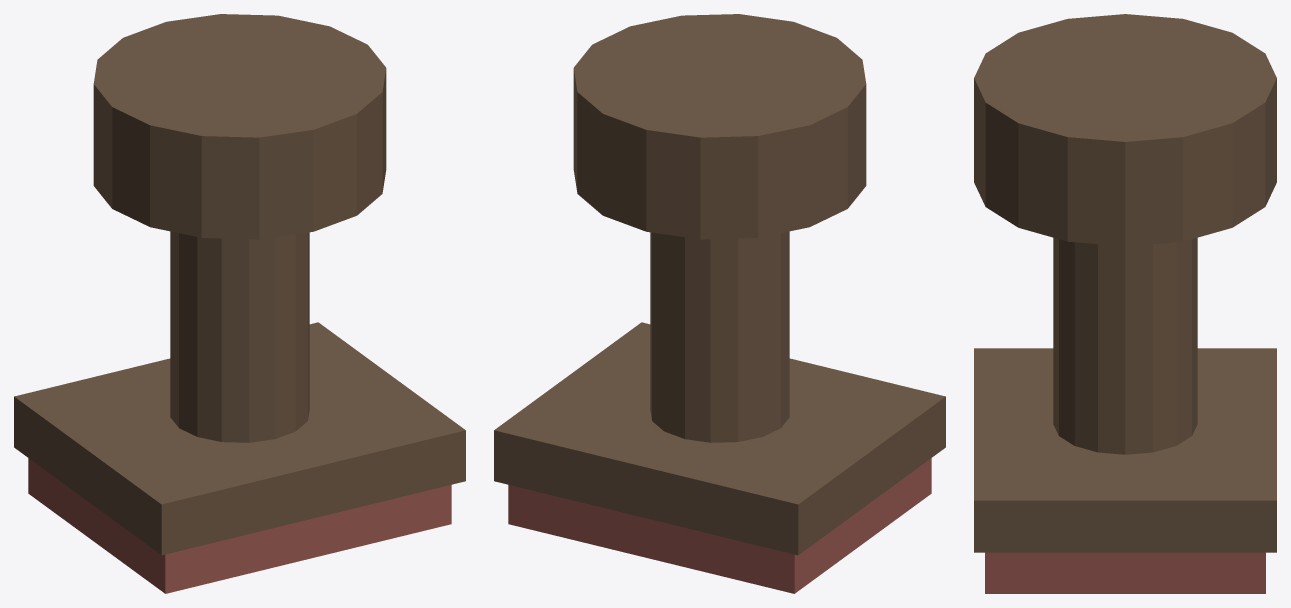
The model's file is proof_stamp.glb.
The picture shows the model from 3 angles, left to right: view 1: azimuth 30°, elevation 25°; view 2: azimuth 150°, elevation 25°; view 3: azimuth 270°, elevation 25°; orthographic projection. The views are drawn at different scales.
Visible parts, largest first — view 1: Round grip, Stamp base, Stem, Stamp pad; view 2: Round grip, Stamp base, Stem, Stamp pad; view 3: Round grip, Stamp base, Stem, Stamp pad.
Boxes of the visible parts, x1,y1,x2,y2 form: Round grip: (93, 14, 386, 239); Stamp base: (14, 322, 465, 555); Stem: (170, 231, 309, 442); Stamp pad: (28, 458, 451, 593); Round grip: (573, 14, 866, 239); Stamp base: (494, 322, 945, 555); Stem: (650, 231, 789, 442); Stamp pad: (508, 458, 931, 593); Round grip: (974, 14, 1276, 246); Stamp base: (974, 348, 1276, 552); Stem: (1053, 237, 1197, 454); Stamp pad: (985, 552, 1265, 593).
Size of the model in its own units: 0.05 by 0.068 by 0.042.
